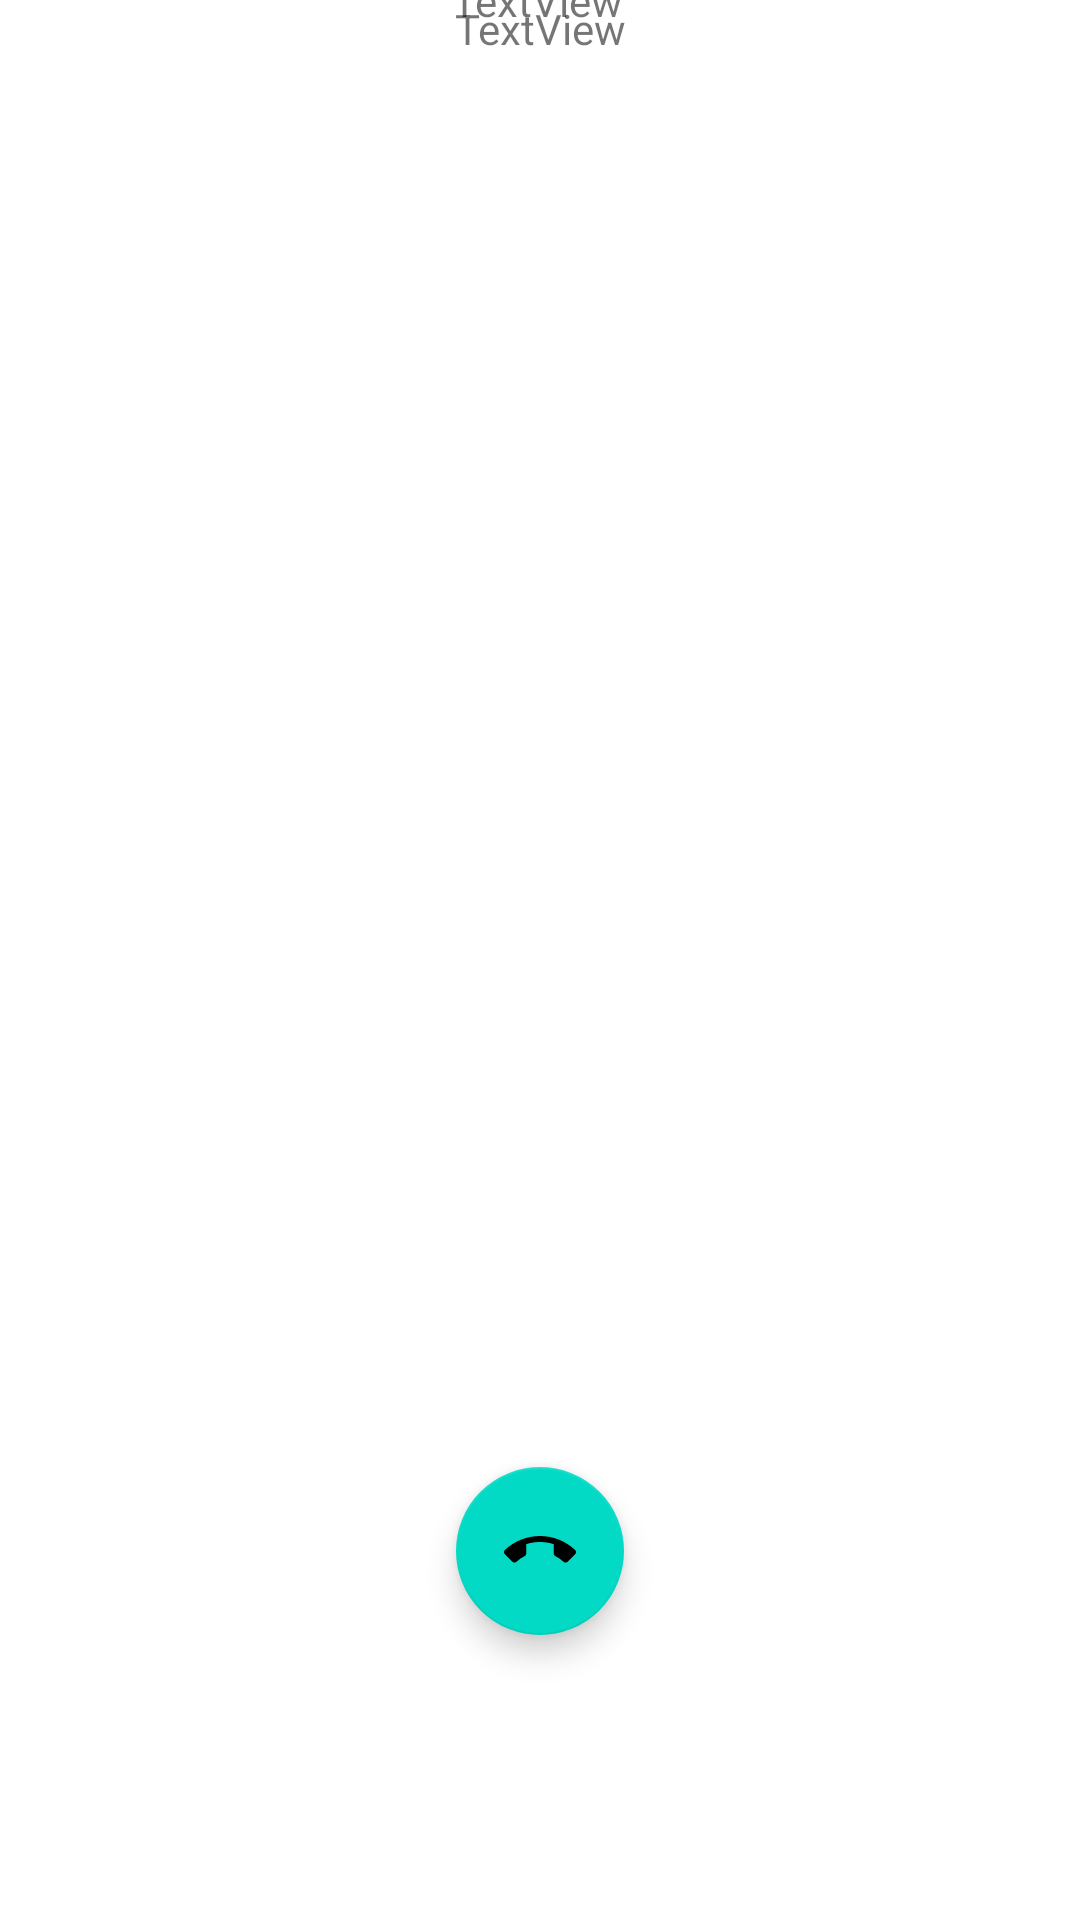

Locate icon controls on the screen. Image size 1080px×1920px, boxes as (x1, y1, x2, y2).
call end: (456, 1467, 624, 1635)
